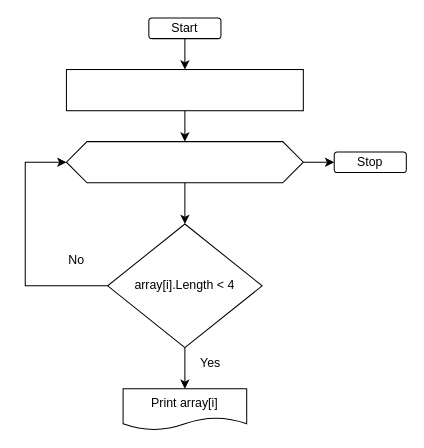
Image size: 424x448. Some labels were removed from this diagram. The box of each missing label's shape, as (x1, y1, x2, y2) in pixels:
array = ["hello" , "2" , ":-)" , "world" , "computer science"]: (65, 68, 303, 111)
i = 0, i < array.Length, i++: (65, 141, 303, 183)
